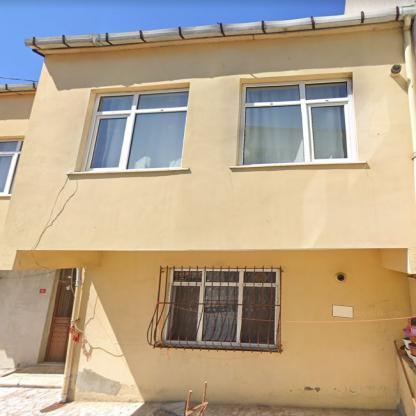door: (43, 272, 77, 360)
window: (242, 80, 346, 164), (166, 271, 278, 345), (89, 91, 186, 168), (2, 141, 24, 195)
